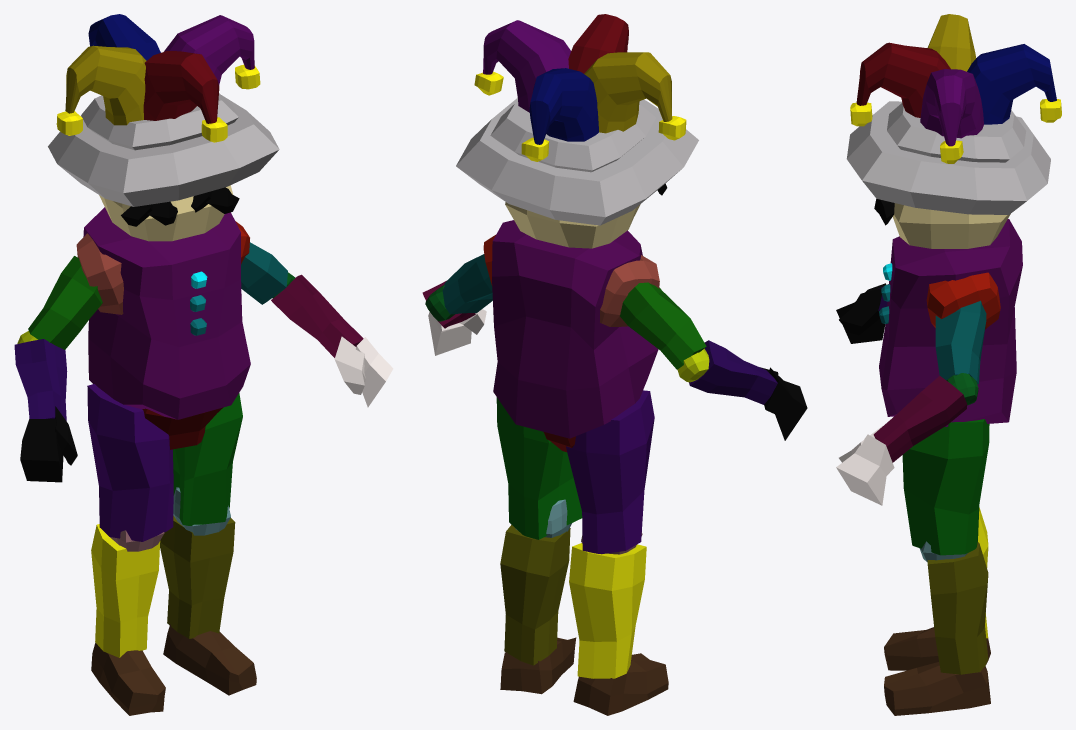
Rendered from knomeJester12312noCliptnx2themasterOFblender.fbx.
The picture shows the model from 3 angles, left to right: view 1: azimuth 30°, elevation 25°; view 2: azimuth 150°, elevation 25°; view 3: azimuth 270°, elevation 25°; orthographic projection. The views are drawn at different scales.
Visible parts, largest first — view 1: Cube, Cube.020, Cube.025, Cube.001, Cube.024, Cube.004, Cube.035, Cube.033, Cube.009, Cube.015, Cube.028, Cube.026 (+13 smaller); view 2: Cube, Cube.020, Cube.025, Cube.024, Cube.001, Cube.004, Cube.035, Cube.015, Cube.016, Cube.034, Cube.028, Cube.026 (+10 smaller); view 3: Cube, Cube.020, Cube.004, Cube.001, Cube.016, Cube.009, Cube.015, Cube.033, Cube.014, Cube.034, Cube.002, Cube.003 (+11 smaller).
Boxes of the visible parts, box(x1,y1,x2,y2) form: Cube: box(83, 207, 250, 419); Cube.020: box(48, 95, 279, 206); Cube.025: box(87, 384, 173, 541); Cube.001: box(160, 516, 235, 638); Cube.024: box(91, 524, 160, 657); Cube.004: box(173, 393, 242, 525); Cube.035: box(65, 45, 146, 125); Cube.033: box(143, 51, 219, 123); Cube.009: box(163, 624, 256, 695); Cube.015: box(81, 93, 238, 150); Cube.028: box(28, 256, 102, 349); Cube.026: box(91, 642, 165, 715); Cube: box(492, 220, 658, 438); Cube.020: box(456, 98, 698, 225); Cube.025: box(566, 390, 654, 554); Cube.024: box(569, 543, 646, 678); Cube.001: box(500, 525, 570, 665); Cube.004: box(496, 397, 582, 539); Cube.035: box(584, 52, 672, 133); Cube.015: box(490, 101, 655, 172); Cube.016: box(529, 68, 598, 144); Cube.034: box(483, 20, 571, 112); Cube.028: box(620, 282, 706, 369); Cube.026: box(573, 653, 668, 715); Cube: box(879, 219, 1022, 426); Cube.020: box(846, 101, 1050, 214); Cube.004: box(902, 419, 989, 555); Cube.001: box(927, 542, 988, 674); Cube.016: box(967, 44, 1056, 124); Cube.009: box(884, 662, 990, 715); Cube.015: box(887, 103, 1026, 162); Cube.033: box(856, 42, 950, 117); Cube.014: box(892, 203, 1010, 248); Cube.034: box(920, 69, 983, 146); Cube.002: box(873, 376, 967, 462); Cube.003: box(935, 300, 986, 384).
Bounding box in the file's own units: 76.84 × 128 × 40.84.
